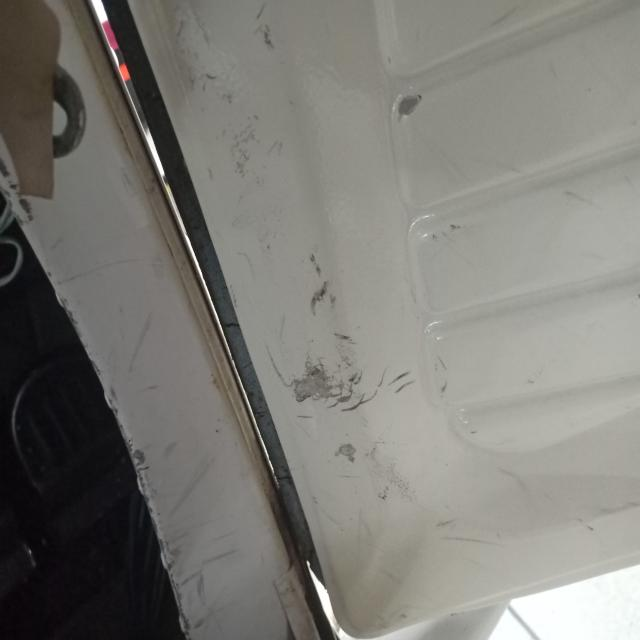Rupture: (279, 264, 412, 426), (376, 87, 429, 136)
